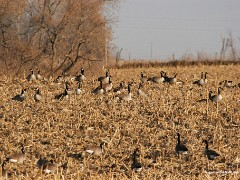goose: (5, 144, 30, 164), (201, 138, 221, 162), (129, 147, 145, 173), (51, 82, 71, 102), (174, 131, 189, 157), (85, 140, 107, 157), (121, 82, 135, 101), (10, 87, 28, 101), (33, 87, 46, 104), (151, 69, 166, 83), (91, 78, 104, 94), (211, 86, 224, 102), (193, 70, 204, 87), (25, 67, 36, 83), (103, 76, 115, 89), (98, 69, 111, 80), (115, 78, 126, 91), (168, 71, 181, 82), (36, 67, 45, 81), (135, 83, 143, 97), (138, 71, 148, 82)
